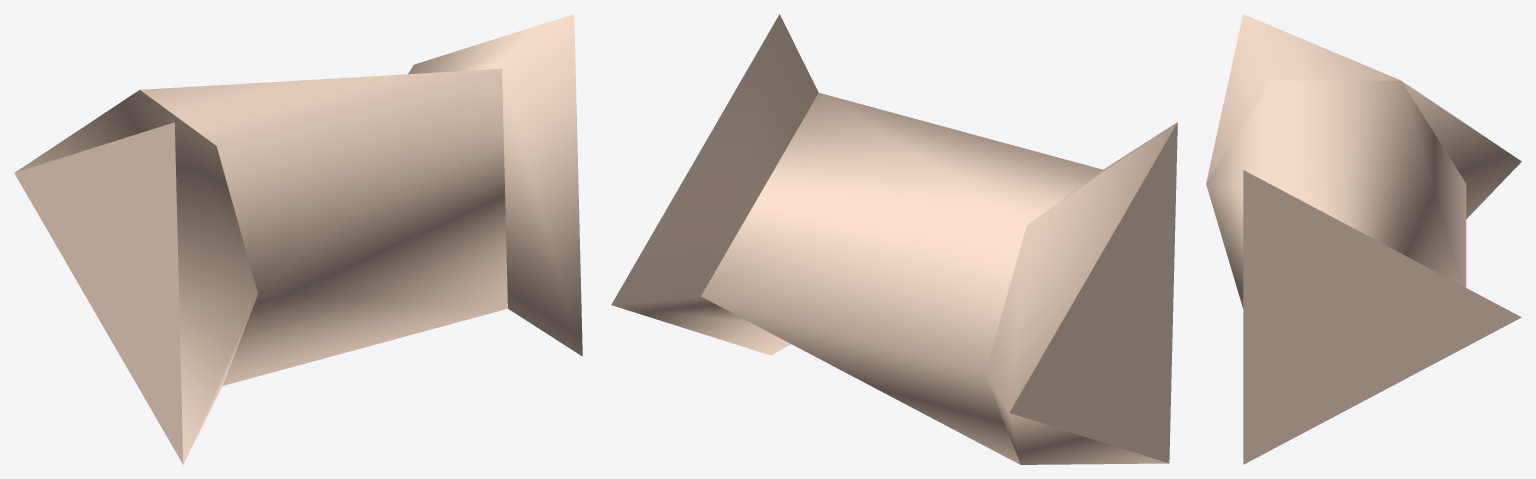
The model's file is Goupille roue_Suspension_instance_3.obj.
3 renders of one model, left to right at view 1: azimuth 30°, elevation 25°; view 2: azimuth 150°, elevation 25°; view 3: azimuth 270°, elevation 25°, orthographic. The views are drawn at different scales.
Parts seen in each view (by area): view 1: Face_1, Face_5, Face_2, Face_4; view 2: Face_1, Face_5, Face_2, Face_4; view 3: Face_3, Face_1, Face_4.
Boxes of the visible parts, bbox=[...] form: Face_1: bbox=[140, 69, 507, 385]; Face_5: bbox=[14, 122, 183, 464]; Face_2: bbox=[408, 14, 582, 356]; Face_4: bbox=[15, 90, 257, 464]; Face_1: bbox=[701, 93, 1102, 464]; Face_5: bbox=[1009, 122, 1177, 463]; Face_2: bbox=[611, 14, 818, 355]; Face_4: bbox=[985, 122, 1177, 464]; Face_3: bbox=[1243, 170, 1521, 464]; Face_1: bbox=[1206, 80, 1466, 305]; Face_4: bbox=[1206, 14, 1521, 308].
Bounding box in the file's own units: 0.00107 × 0.000893 × 0.00085.
